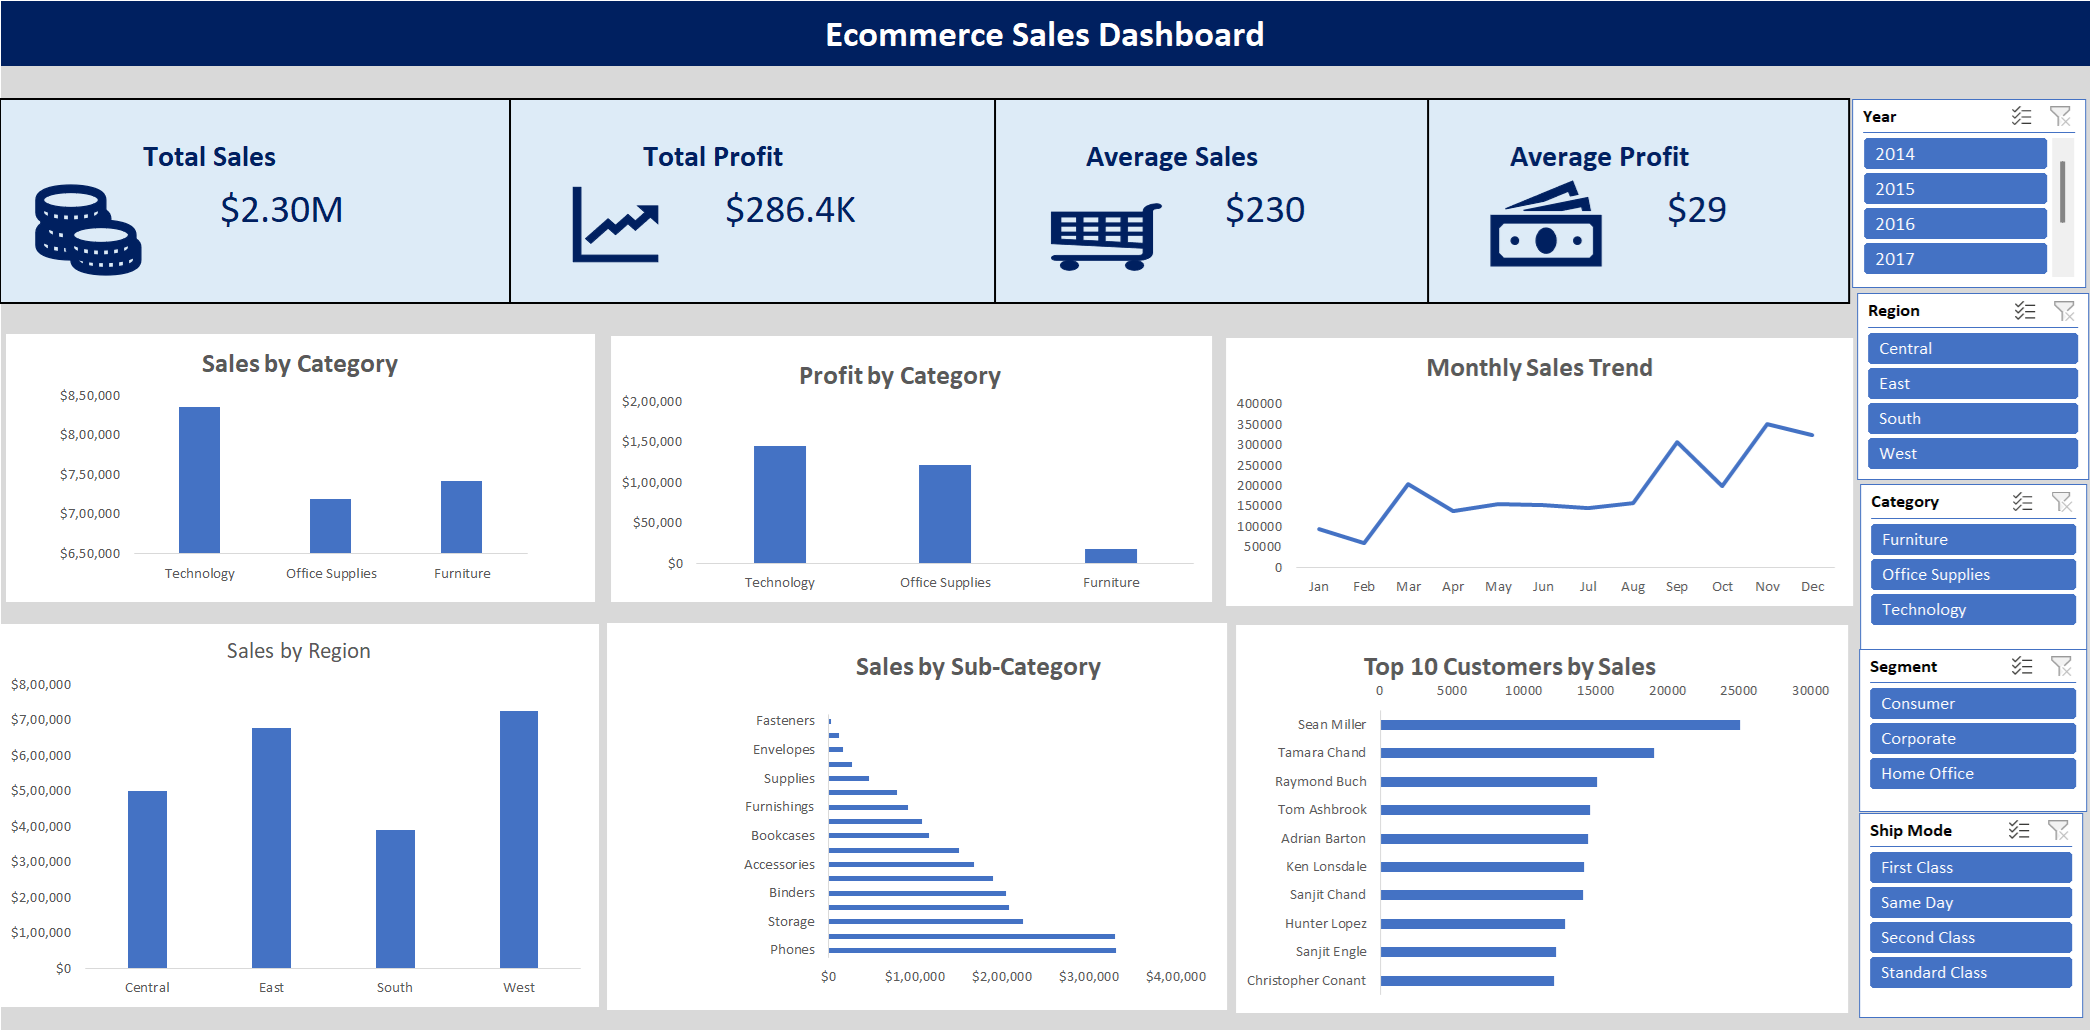

What the dashboard file says about the page in this screenshot:
{"tool":"powerbi","page":{"name":" Sales Dashboard","canvas":[1280,720],"ordinal":0},"visuals":[{"type":"textbox","box":[0,17.4,1280,74.6],"z":0},{"type":"card","fields":{"Values":["superstore_cleaned.Total Sales"]},"box":[6.9,70,306,107],"z":1000},{"type":"card","fields":{"Values":["superstore_cleaned.Total Profit"]},"box":[279.9,65.9,251.1,111.1],"z":2000},{"type":"card","fields":{"Values":["superstore_cleaned.Average Sales"]},"box":[499.5,70,258,111.1],"z":3000},{"type":"card","fields":{"Values":["superstore_cleaned.Average Profit"]},"box":[757.5,68.6,278.6,111.1],"z":4000},{"type":"lineChart","title":"Monthly Sales Trend","fields":{"Category":["superstore_cleaned.Order Month"],"Y":["superstore_cleaned.Total Sales"]},"box":[686.1,180.6,349.9,234.6],"z":5000},{"type":"clusteredColumnChart","title":" Sales by Category","fields":{"Category":["superstore_cleaned.Category"],"Y":["superstore_cleaned.Total Sales"]},"box":[0,179.2,325.2,234.6],"z":6000},{"type":"clusteredBarChart","title":" Sales by Region","fields":{"Category":["superstore_cleaned.Region"],"Y":["superstore_cleaned.Total Sales"]},"box":[9.6,413.9,279.9,303.3],"z":7000},{"type":"clusteredColumnChart","title":"Profit by Category","fields":{"Category":["superstore_cleaned.Category"],"Y":["superstore_cleaned.Total Profit"]},"box":[312.9,179.2,373.2,234.6],"z":8000},{"type":"clusteredBarChart","title":"Top 10 Customers by Sales","fields":{"Category":["superstore_cleaned.Customer Name"],"Y":["superstore_cleaned.Total Sales"]},"box":[666.9,413.9,381.5,297.8],"z":9000},{"type":"clusteredBarChart","title":"Profit  by Sub-Category","fields":{"Category":["superstore_cleaned.Sub-Category"],"Y":["superstore_cleaned.Total Profit"]},"box":[289.5,416.6,377.4,300.5],"z":10000},{"type":"slicer","fields":{"Values":["superstore_cleaned.Order Year"]},"box":[1036,49.4,214.1,205.8],"z":11000},{"type":"slicer","fields":{"Values":["superstore_cleaned.Region"]},"box":[1038.8,148.8,233.8,146.2],"z":12000},{"type":"slicer","fields":{"Values":["superstore_cleaned.Segment"]},"box":[1040,295,232.5,120],"z":13000},{"type":"slicer","fields":{"Values":["superstore_cleaned.Category"]},"box":[1040,420,232.5,122.5],"z":14000},{"type":"slicer","fields":{"Values":["superstore_cleaned.Ship Mode"]},"box":[1040.1,542,231.9,159.2],"z":15000},{"type":"textbox","box":[992.1,671,56.3,30.2],"z":16000}]}

Visuals, with their boxes on the page's 1280x720 design canvas (x1, y1, x2, y2). These are canvas units, not pixel positions in the 2093x1030 screenshot, which may show the page scaled, cropped or inside an application window:
textbox: (left=0, top=17, right=1280, bottom=92)
card - superstore_cleaned.Total Sales: (left=7, top=70, right=313, bottom=177)
card - superstore_cleaned.Total Profit: (left=280, top=66, right=531, bottom=177)
card - superstore_cleaned.Average Sales: (left=500, top=70, right=758, bottom=181)
card - superstore_cleaned.Average Profit: (left=758, top=69, right=1036, bottom=180)
"Monthly Sales Trend" lineChart: (left=686, top=181, right=1036, bottom=415)
" Sales by Category" clusteredColumnChart: (left=0, top=179, right=325, bottom=414)
" Sales by Region" clusteredBarChart: (left=10, top=414, right=290, bottom=717)
"Profit by Category" clusteredColumnChart: (left=313, top=179, right=686, bottom=414)
"Top 10 Customers by Sales" clusteredBarChart: (left=667, top=414, right=1048, bottom=712)
"Profit  by Sub-Category" clusteredBarChart: (left=290, top=417, right=667, bottom=717)
slicer - superstore_cleaned.Order Year: (left=1036, top=49, right=1250, bottom=255)
slicer - superstore_cleaned.Region: (left=1039, top=149, right=1273, bottom=295)
slicer - superstore_cleaned.Segment: (left=1040, top=295, right=1272, bottom=415)
slicer - superstore_cleaned.Category: (left=1040, top=420, right=1272, bottom=542)
slicer - superstore_cleaned.Ship Mode: (left=1040, top=542, right=1272, bottom=701)
textbox: (left=992, top=671, right=1048, bottom=701)
